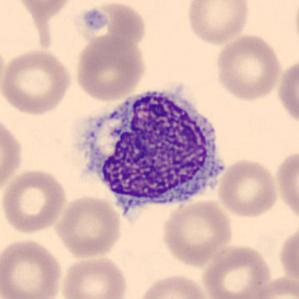Monocyte: (65, 80, 232, 223)
Platelets: (81, 6, 106, 34)
RBC: (159, 196, 235, 268), (0, 48, 74, 116), (73, 35, 148, 102), (214, 32, 284, 102), (0, 166, 68, 236), (53, 194, 124, 260), (0, 236, 65, 299), (201, 243, 273, 299), (74, 0, 148, 54), (216, 157, 280, 218), (58, 252, 129, 299), (184, 0, 251, 46), (0, 112, 26, 200), (135, 272, 211, 299), (273, 147, 298, 223), (276, 55, 298, 129), (247, 273, 298, 299), (11, 0, 74, 18), (278, 229, 299, 283), (0, 39, 7, 103)
